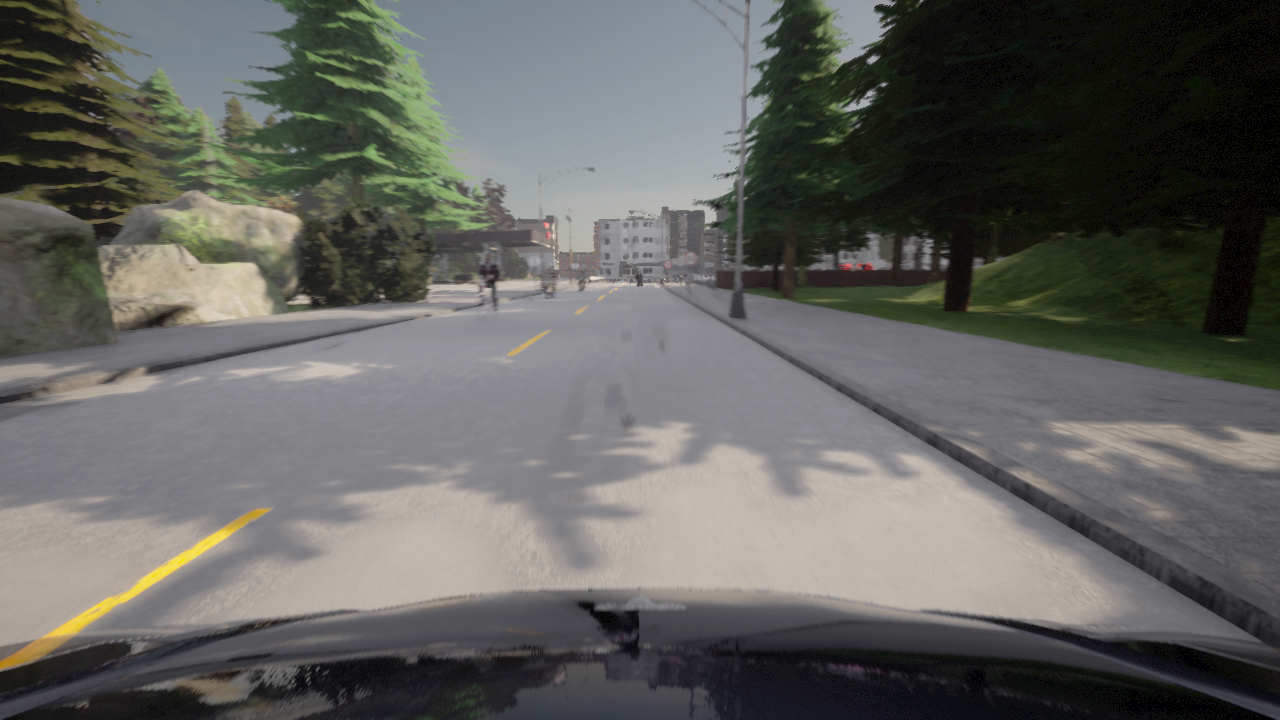cyclist: (0, 588, 1279, 719), (477, 278, 498, 321), (538, 274, 557, 299), (454, 271, 472, 281), (576, 274, 586, 291), (674, 272, 688, 279), (691, 273, 702, 278), (637, 276, 642, 285)
pedestrian: (685, 275, 688, 288)
